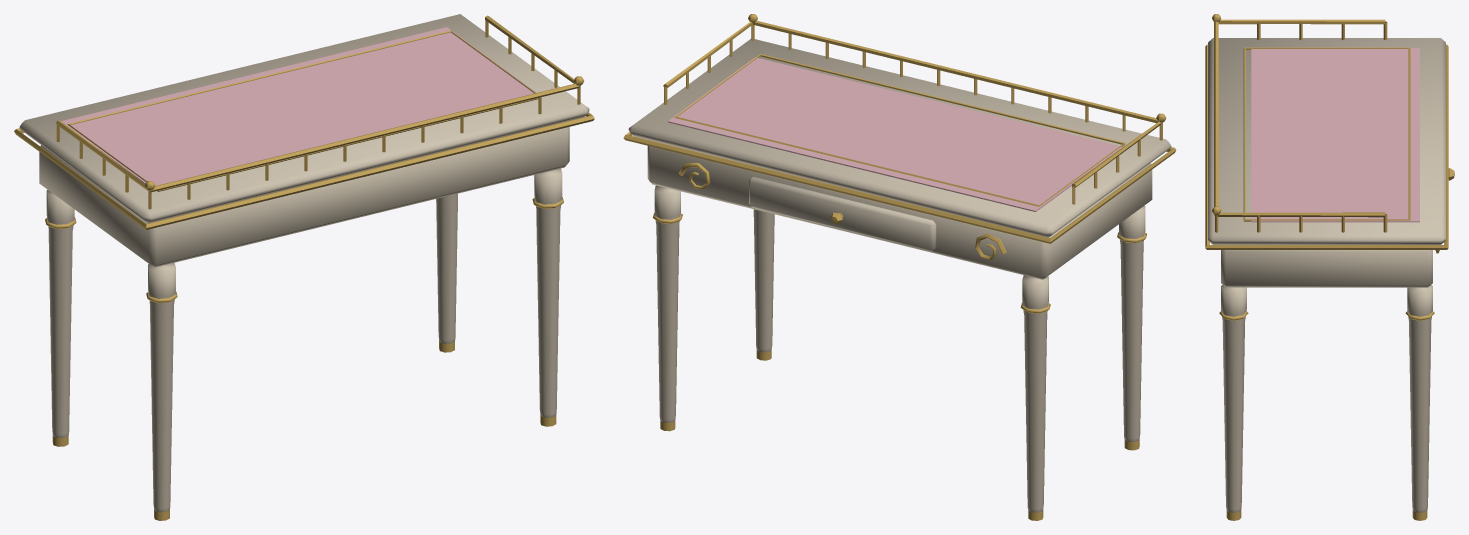
Rendered from writing_desk_small.glb.
3 views of the same model, side by side, from view 1: azimuth 30°, elevation 25°; view 2: azimuth 150°, elevation 25°; view 3: azimuth 270°, elevation 25° (orthographic). The views are drawn at different scales.
Parts seen in each view (by area): view 1: writing_desk_small; view 2: writing_desk_small; view 3: writing_desk_small.
Part boxes in pixels (<box>): writing_desk_small: <box>14,14,594,520</box>; writing_desk_small: <box>623,14,1176,520</box>; writing_desk_small: <box>1205,14,1454,520</box>.
Size of what is drawn, in the model's own units: 1.05 by 0.78 by 0.55.
